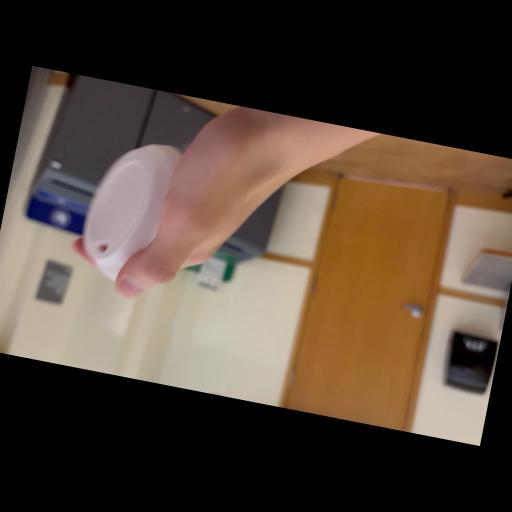lp_cup_lids: (77, 129, 208, 302)
